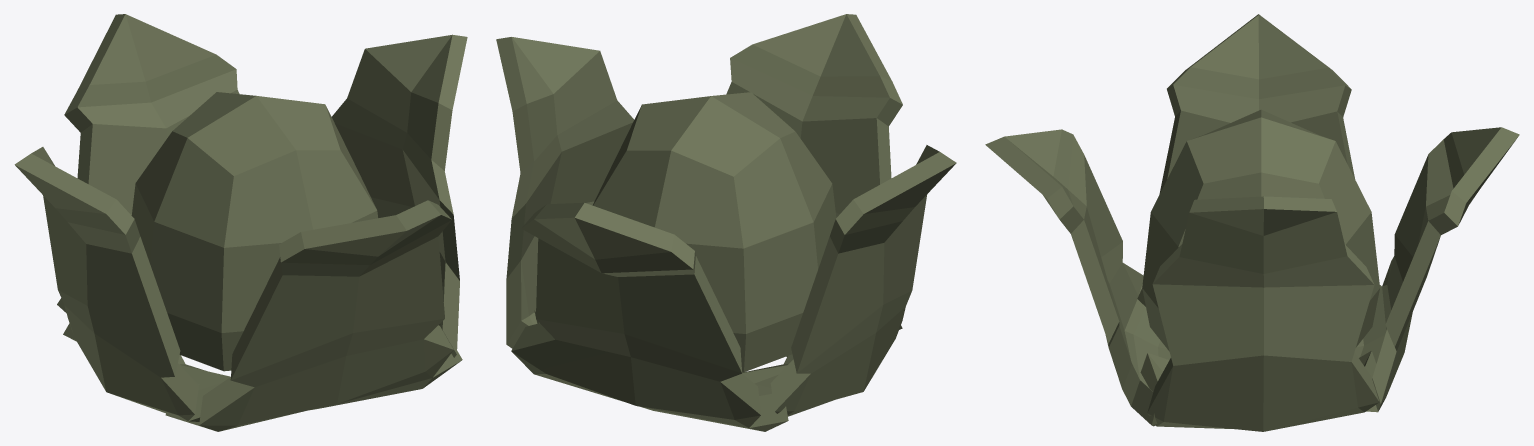
Rendered from lettuce_3.glb.
The picture shows the model from 3 angles, left to right: view 1: azimuth 30°, elevation 25°; view 2: azimuth 150°, elevation 25°; view 3: azimuth 270°, elevation 25°; orthographic projection. The views are drawn at different scales.
Parts seen in each view (by area): view 1: Lettuce_3; view 2: Lettuce_3; view 3: Lettuce_3.
Part boxes in pixels (x1=…): Lettuce_3: x1=14, y1=14, x2=467, y2=431; Lettuce_3: x1=496, y1=14, x2=956, y2=431; Lettuce_3: x1=985, y1=14, x2=1519, y2=431.
Bounding box in the file's own units: 0.6232 × 0.3816 × 0.6764.
